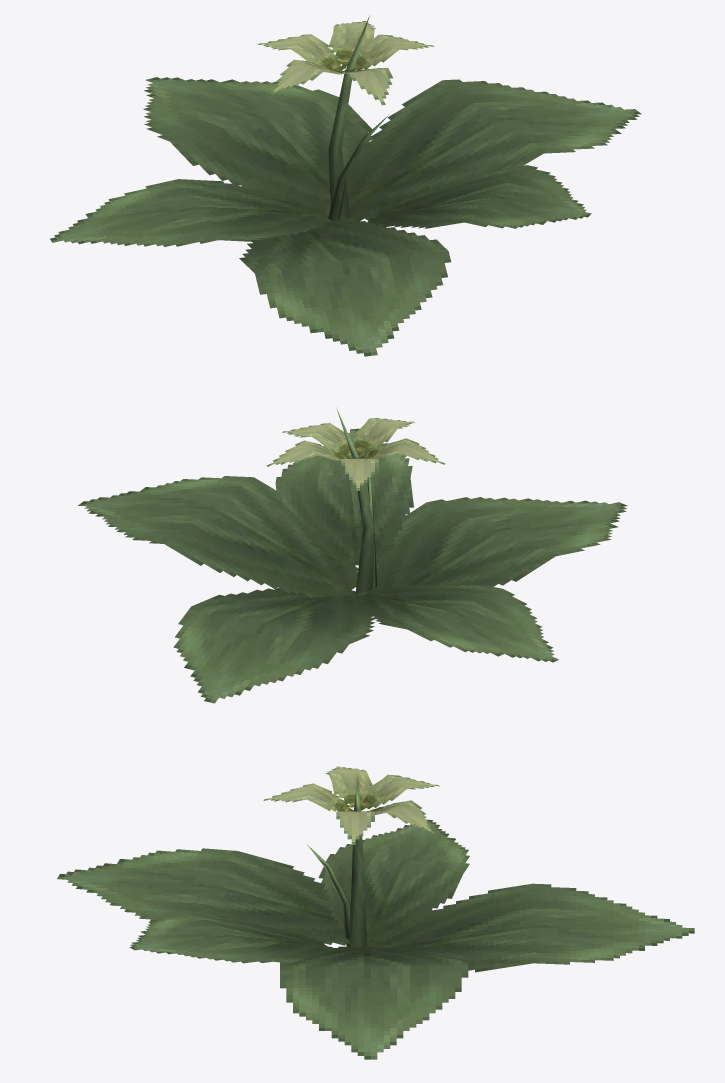
The picture shows the model from 3 angles, top to bottom: view 1: azimuth 30°, elevation 25°; view 2: azimuth 150°, elevation 25°; view 3: azimuth 270°, elevation 25°; orthographic projection. The views are drawn at different scales.
Parts seen in each view (by area): view 1: wj12; view 2: wj12; view 3: wj12.
Boxes of the visible parts, bbox=[...] form: wj12: bbox=[50, 15, 641, 356]; wj12: bbox=[77, 407, 627, 703]; wj12: bbox=[57, 766, 694, 1059].
Size of the model in its own units: 186 by 60.77 by 198.
